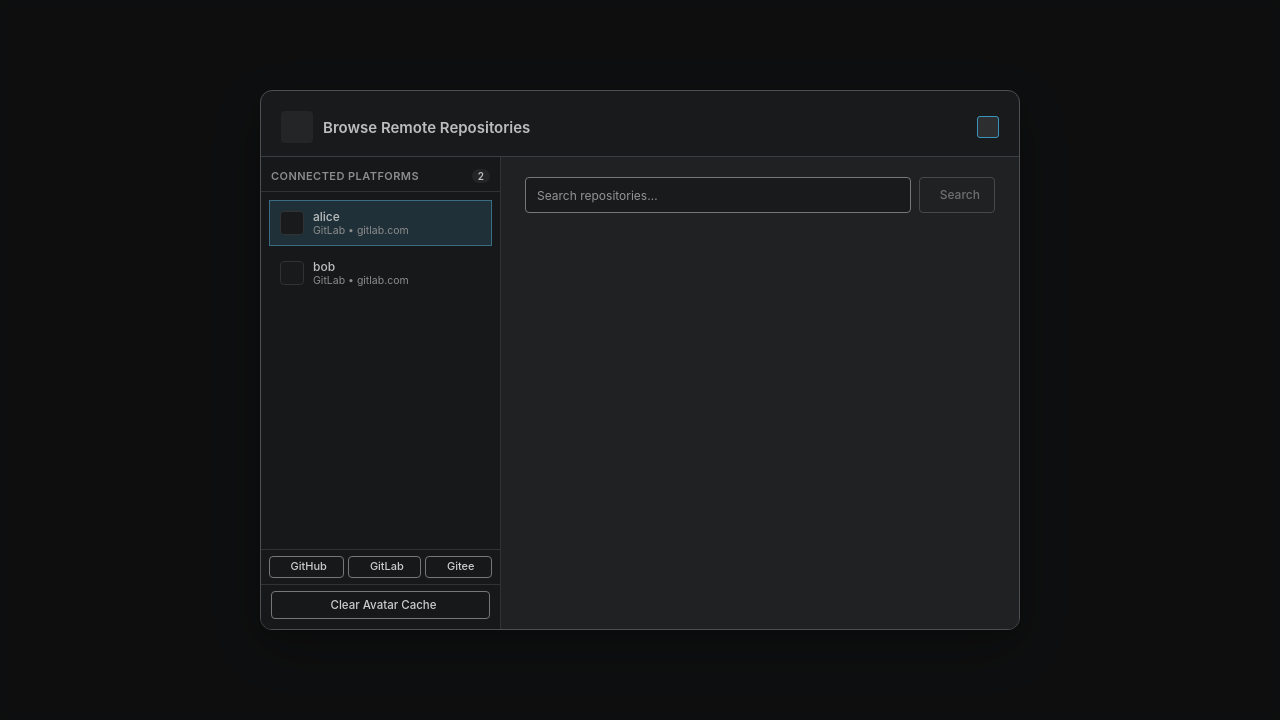
remote workflows › discards late repositories after account changes and searches only on explicit submit
Click the button "bob GitLab • gitlab.com" at (380, 273), box x1=269 y1=250 x2=492 y2=296
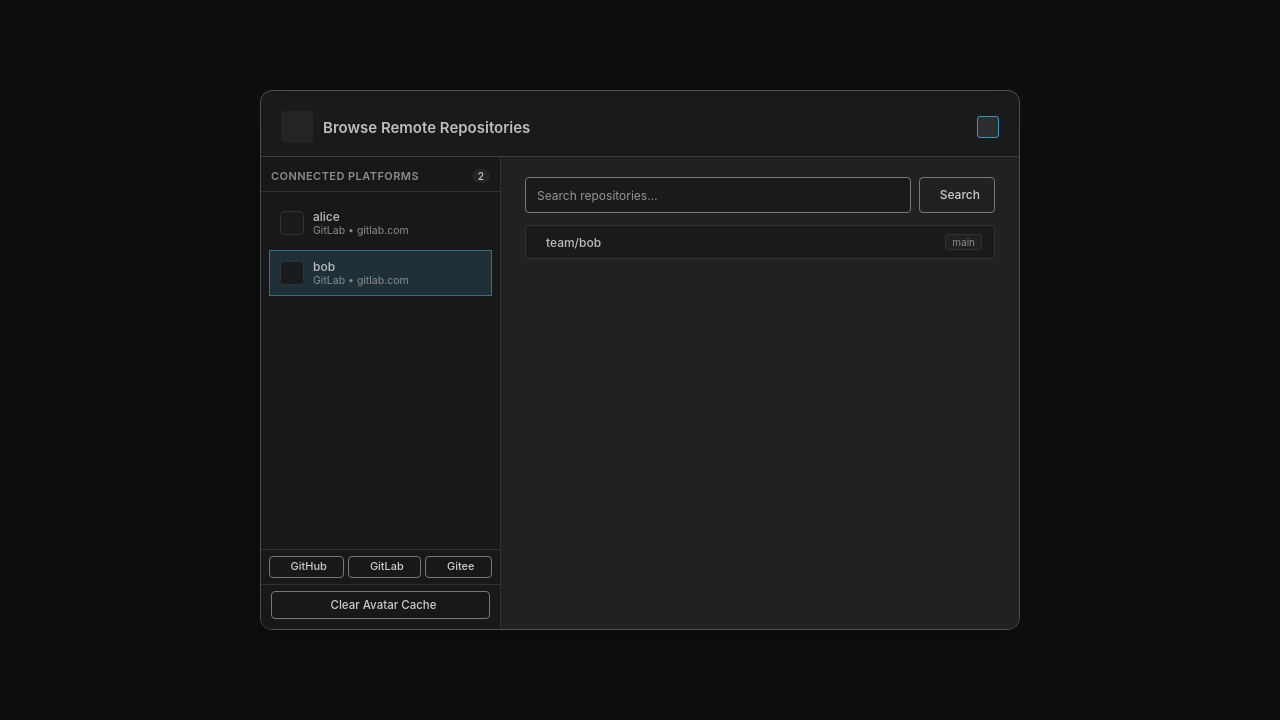
expect the text "team/bob" is shown: met, box x1=546 y1=234 x2=601 y2=250
Type "needle" into the field with placeholder "Search repositories…" at (720, 195), box x1=537 y1=178 x2=904 y2=212
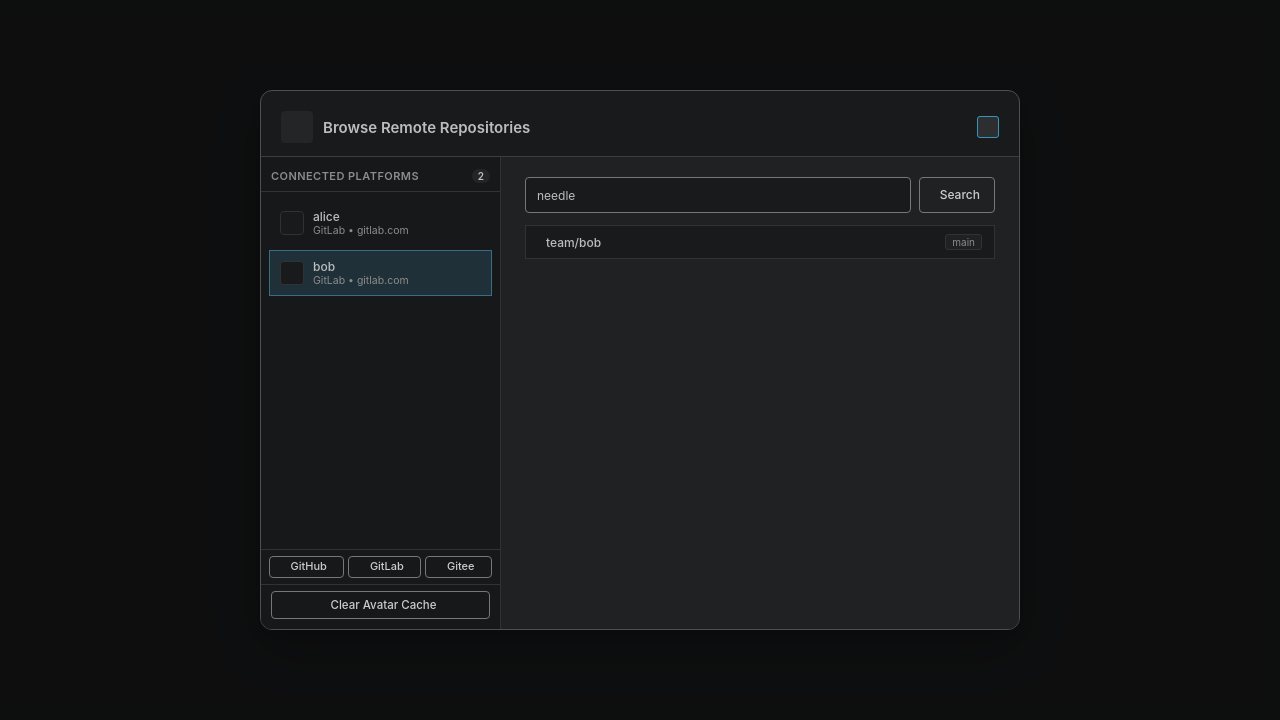
Press Enter in the field with placeholder "Search repositories…", box x1=537 y1=178 x2=904 y2=212
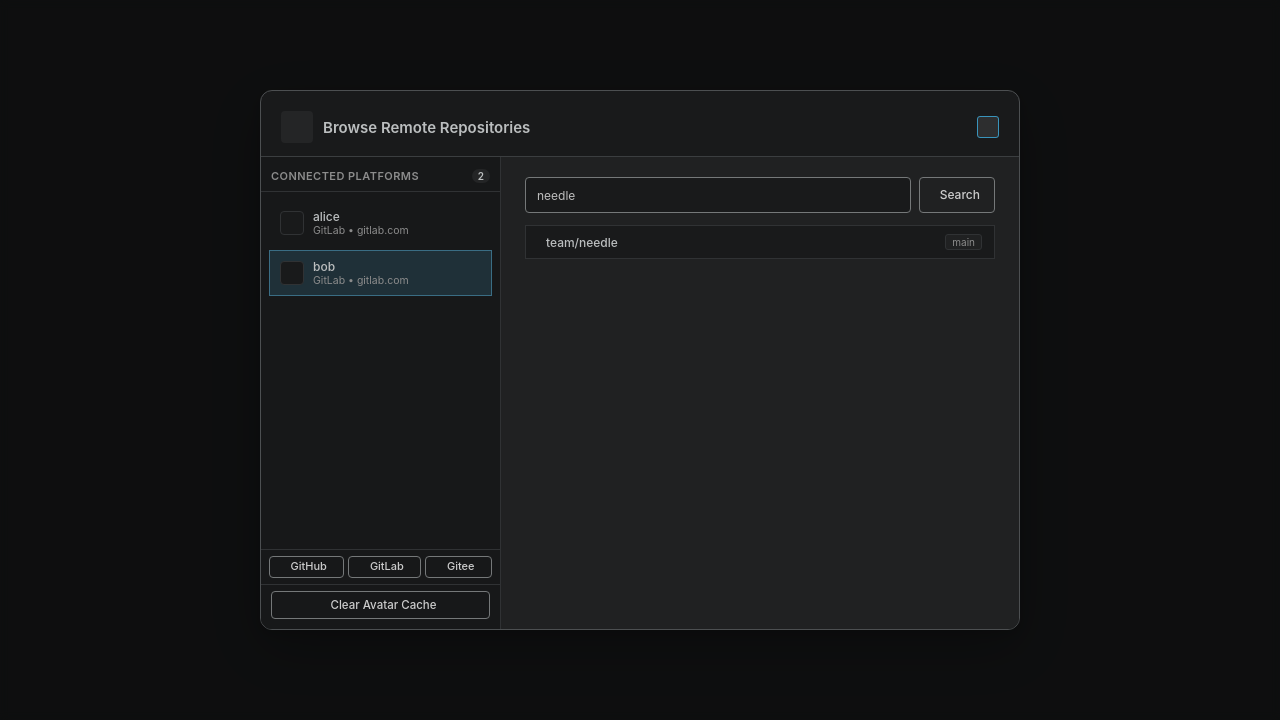
expect the text "team/needle" is shown: met, box x1=546 y1=234 x2=618 y2=250
